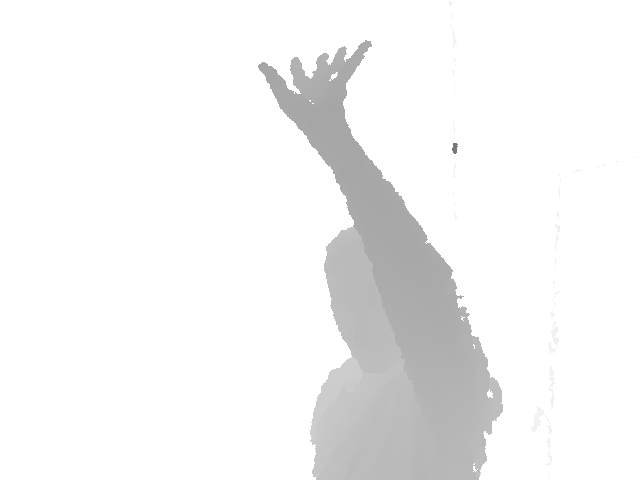hand: (257, 38, 374, 130)
head: (322, 225, 408, 371)
person: (257, 39, 505, 479)
